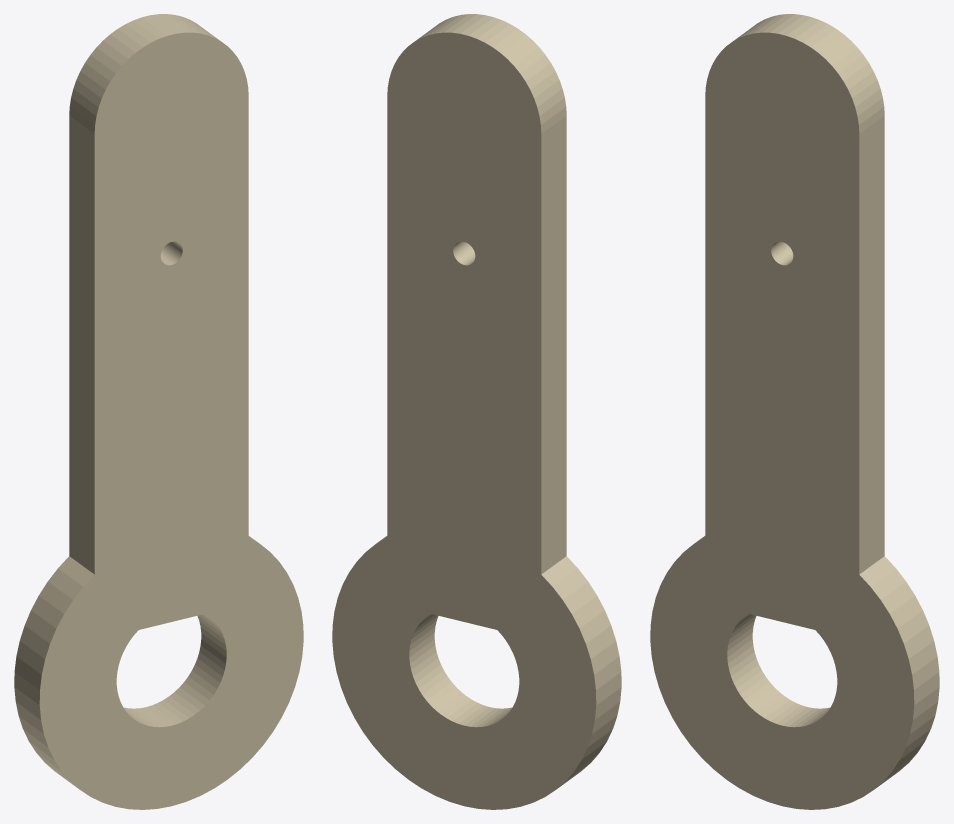
The model's file is throttle-lever-estimated.glb.
3 views of the same model, side by side, from view 1: azimuth 30°, elevation 25°; view 2: azimuth 150°, elevation 25°; view 3: azimuth 330°, elevation 25° (orthographic).
Parts seen in each view (by area): view 1: world; view 2: world; view 3: world.
Boxes of the visible parts, box(x1,y1,x2,y2) form: world: box(14, 14, 303, 809); world: box(332, 14, 621, 809); world: box(650, 14, 939, 809).
Size of the model in its own units: 0.012 by 0.0335 by 0.002.
